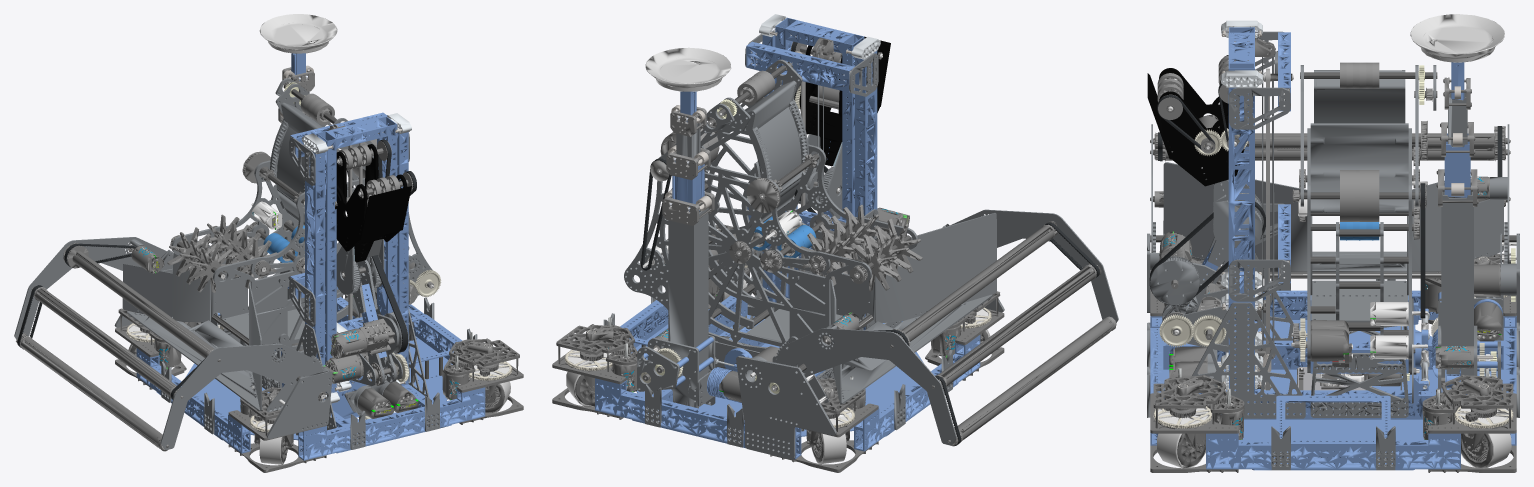
File: hero-gadgeteer-9408.glb
The picture shows the model from 3 angles, left to right: view 1: azimuth 30°, elevation 25°; view 2: azimuth 150°, elevation 25°; view 3: azimuth 270°, elevation 25°; orthographic projection. The views are drawn at different scales.
Parts seen in each view (by area): view 1: shooter, frame, intake, elevator, arm, manip, elevator-stage, hood, climb-pad, flywheel; view 2: shooter, intake, frame, climber, elevator, hood, manip, climb-pad, elevator-stage, arm, climb-mid1, climb-mid2 (+1 smaller); view 3: shooter, frame, elevator, climber, intake, arm, manip, hood, climb-pad, climb-mid1, flywheel, elevator-stage (+2 smaller).
Boxes of the visible parts, bbox=[...] form: shooter: bbox=[122, 82, 441, 411]; frame: bbox=[115, 287, 523, 472]; intake: bbox=[14, 237, 332, 451]; elevator: bbox=[284, 112, 433, 430]; arm: bbox=[323, 239, 409, 386]; manip: bbox=[331, 139, 416, 262]; elevator-stage: bbox=[316, 116, 397, 392]; hood: bbox=[261, 78, 376, 207]; climb-pad: bbox=[259, 14, 337, 53]; flywheel: bbox=[283, 83, 340, 124]; shooter: bbox=[624, 99, 996, 404]; intake: bbox=[736, 209, 1118, 459]; frame: bbox=[552, 224, 1004, 472]; climber: bbox=[637, 189, 759, 408]; elevator: bbox=[652, 14, 901, 401]; hood: bbox=[660, 59, 818, 181]; manip: bbox=[790, 36, 890, 166]; climb-pad: bbox=[645, 47, 731, 91]; elevator-stage: bbox=[775, 17, 864, 302]; arm: bbox=[794, 134, 909, 273]; climb-mid1: bbox=[666, 145, 710, 211]; climb-mid2: bbox=[670, 105, 706, 165]; shooter: bbox=[1163, 65, 1503, 417]; frame: bbox=[1147, 253, 1519, 472]; elevator: bbox=[1169, 20, 1467, 419]; climber: bbox=[1362, 169, 1503, 403]; intake: bbox=[1147, 124, 1519, 322]; arm: bbox=[1149, 173, 1265, 352]; manip: bbox=[1147, 55, 1247, 186]; hood: bbox=[1300, 65, 1436, 206]; climb-pad: bbox=[1410, 14, 1504, 361]; climb-mid1: bbox=[1440, 122, 1475, 197]; flywheel: bbox=[1300, 62, 1437, 88]; elevator-stage: bbox=[1228, 27, 1254, 376].
Bounding box in the file's own units: 0.9991 × 0.8249 × 0.7239.
